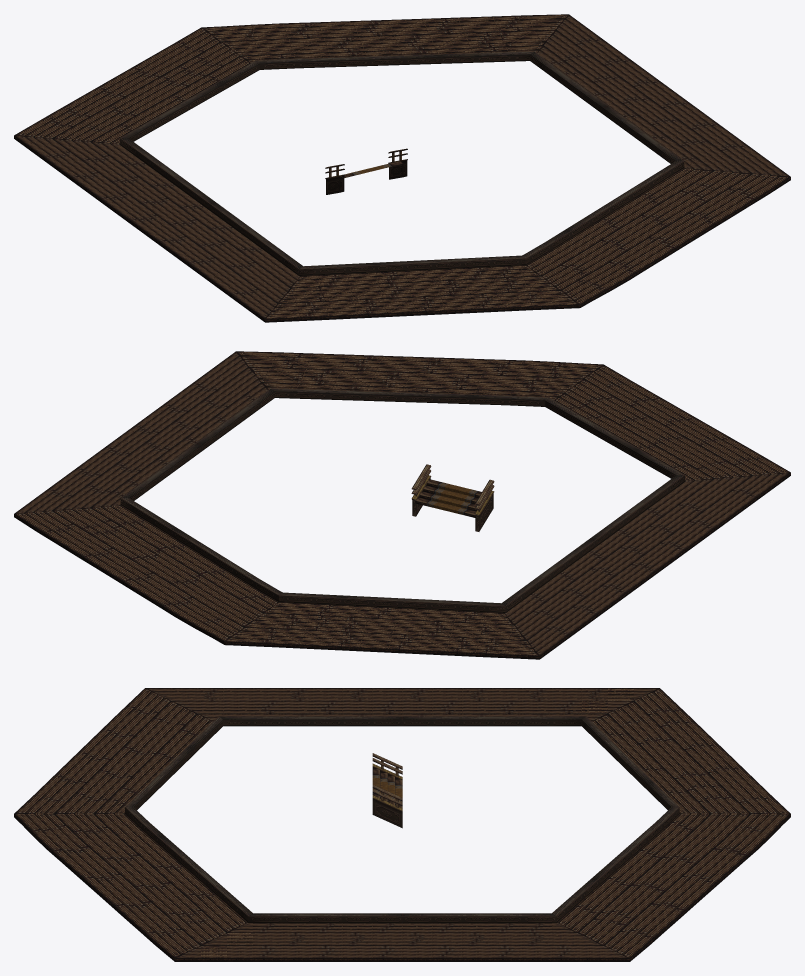
The model's file is EnvMdrMD_Desert_Tower_A_Stairs_A_Loop.FBX.
3 renders of one model, top to bottom at view 1: azimuth 30°, elevation 25°; view 2: azimuth 150°, elevation 25°; view 3: azimuth 270°, elevation 25°, orthographic. The views are drawn at different scales.
Parts seen in each view (by area): view 1: EnvMdrMD_Desert_Tower_A_Terrace_A, EnvMdrMD_Desert_Tower_A_Stairs_A_Loop; view 2: EnvMdrMD_Desert_Tower_A_Terrace_A, EnvMdrMD_Desert_Tower_A_Stairs_A_Loop; view 3: EnvMdrMD_Desert_Tower_A_Terrace_A, EnvMdrMD_Desert_Tower_A_Stairs_A_Loop.
Part boxes in pixels (x1,y1,x2,y2): EnvMdrMD_Desert_Tower_A_Terrace_A: (14, 14, 790, 322); EnvMdrMD_Desert_Tower_A_Stairs_A_Loop: (325, 148, 407, 194); EnvMdrMD_Desert_Tower_A_Terrace_A: (14, 351, 790, 659); EnvMdrMD_Desert_Tower_A_Stairs_A_Loop: (411, 464, 494, 531); EnvMdrMD_Desert_Tower_A_Terrace_A: (14, 688, 790, 961); EnvMdrMD_Desert_Tower_A_Stairs_A_Loop: (372, 753, 402, 828).
Bounding box in the file's own units: 4281 × 310 × 5200.
Materials: 1 (1 with a texture image).
